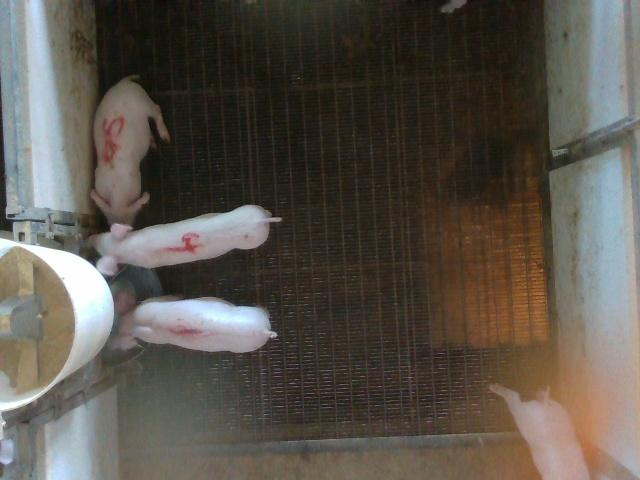pig-1: (109, 286, 276, 352)
pig-4: (90, 205, 281, 276)
pig-5: (91, 76, 170, 224)
